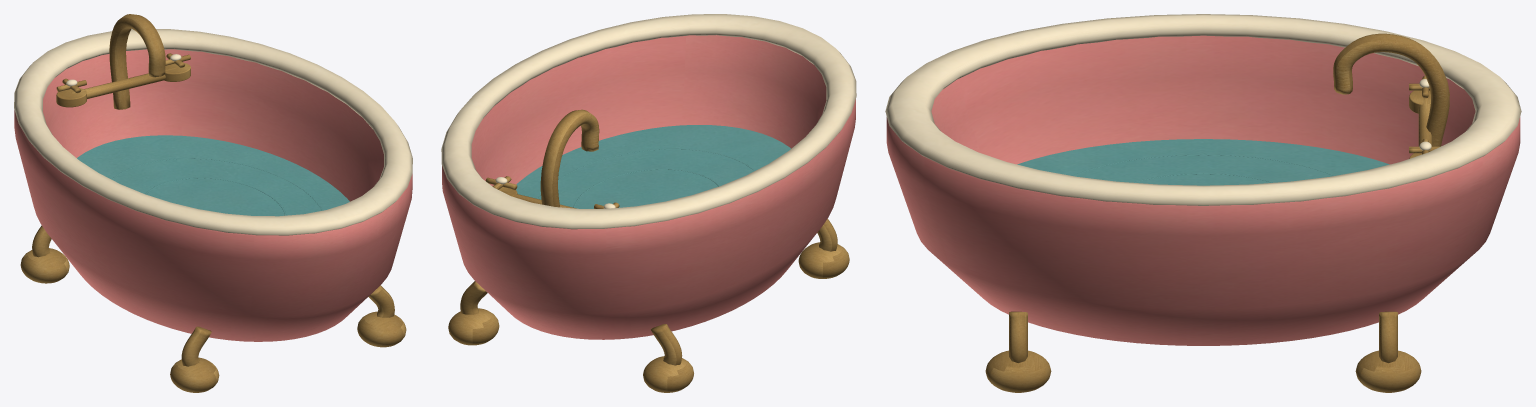
File: SM_InteriorAdditions_Bathtub.fbx
3 views of the same model, side by side, from view 1: azimuth 30°, elevation 25°; view 2: azimuth 150°, elevation 25°; view 3: azimuth 270°, elevation 25° (orthographic). The views are drawn at different scales.
Visible parts, largest first — view 1: SM_InteriorAdditions_Bathtub; view 2: SM_InteriorAdditions_Bathtub; view 3: SM_InteriorAdditions_Bathtub.
Part boxes in pixels (bbox=[...]): SM_InteriorAdditions_Bathtub: bbox=[14, 14, 412, 392]; SM_InteriorAdditions_Bathtub: bbox=[441, 14, 856, 392]; SM_InteriorAdditions_Bathtub: bbox=[885, 14, 1521, 392].
Size of what is drawn, in the model's own units: 156 by 226 by 117.
